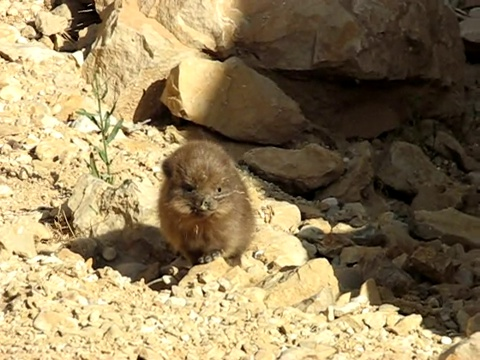Rock Hyrex: (159, 140, 251, 268)
